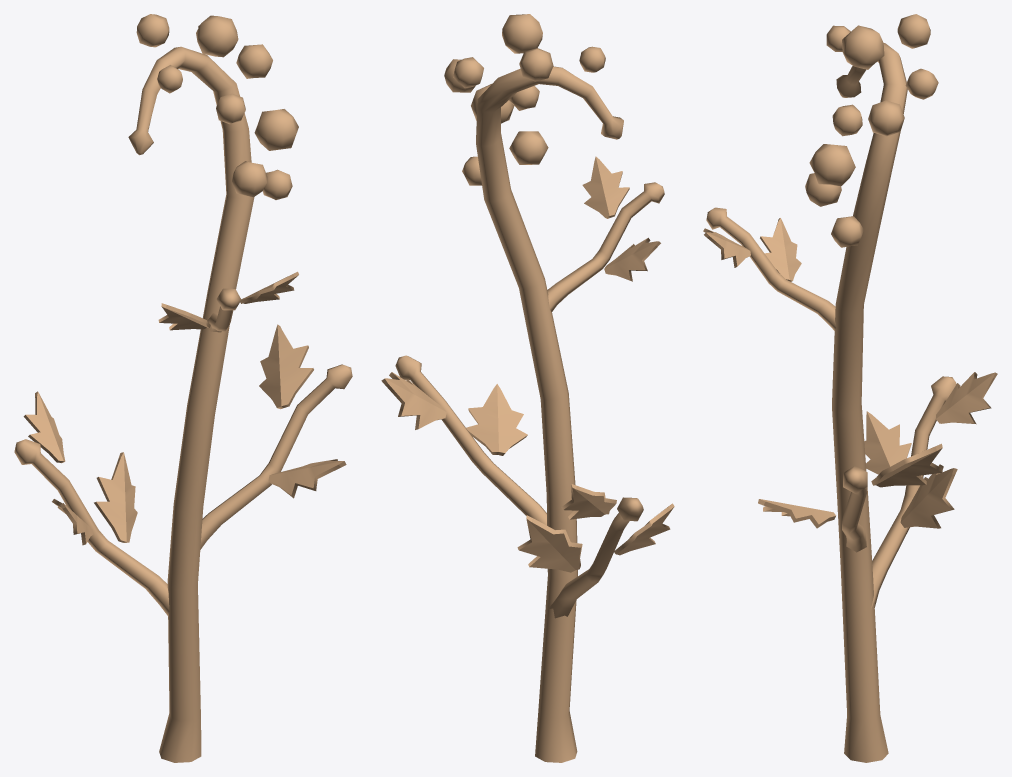
Rendered from asteroidPlant_stage3.fbx.
3 renders of one model, left to right at view 1: azimuth 30°, elevation 25°; view 2: azimuth 150°, elevation 25°; view 3: azimuth 270°, elevation 25°, orthographic.
Visible parts, largest first — view 1: stage3_asteroidStem, stage3_asteroidBranch3, stage3_asteroidBranch1, stage3_asteroidLeaf2, stage3_asteroidLeaf5, stage3_asteroidFruit1, stage3_asteroidFruit7, stage3_asteroidLeaf1, stage3_asteroidLeaf7, stage3_asteroidFruit2, stage3_asteroidFruit3, stage3_asteroidFruit8 (+5 smaller); view 2: stage3_asteroidStem, stage3_asteroidBranch1, stage3_asteroidBranch5, stage3_asteroidBranch3, stage3_asteroidLeaf1, stage3_asteroidLeaf5, stage3_asteroidLeaf2, stage3_asteroidLeaf3, stage3_asteroidFruit7, stage3_asteroidLeaf7, stage3_asteroidLeaf4, stage3_asteroidFruit2 (+5 smaller); view 3: stage3_asteroidStem, stage3_asteroidBranch3, stage3_asteroidBranch5, stage3_asteroidLeaf5, stage3_asteroidLeaf7, stage3_asteroidLeaf6, stage3_asteroidBranch1, stage3_asteroidLeaf2, stage3_asteroidFruit1, stage3_asteroidFruit7, stage3_asteroidLeaf4, stage3_asteroidFruit3 (+7 smaller).
Part boxes in pixels (x1,y1,x2,y2): stage3_asteroidStem: (128,46,254,762); stage3_asteroidBranch3: (14,439,169,616); stage3_asteroidBranch1: (200,364,352,549); stage3_asteroidLeaf2: (259,324,313,409); stage3_asteroidLeaf5: (94,452,137,542); stage3_asteroidFruit1: (254,109,298,150); stage3_asteroidFruit7: (196,15,238,57); stage3_asteroidLeaf1: (268,459,346,498); stage3_asteroidLeaf7: (23,391,65,463); stage3_asteroidFruit2: (232,161,267,197); stage3_asteroidFruit3: (236,44,272,78); stage3_asteroidFruit8: (136,14,169,47); stage3_asteroidStem: (476,66,623,762); stage3_asteroidBranch1: (395,355,546,525); stage3_asteroidBranch5: (547,182,664,311); stage3_asteroidBranch3: (547,497,643,618); stage3_asteroidLeaf1: (466,384,527,455); stage3_asteroidLeaf5: (517,515,582,572); stage3_asteroidLeaf2: (381,372,446,429); stage3_asteroidLeaf3: (582,156,629,218); stage3_asteroidFruit7: (502,14,542,53); stage3_asteroidLeaf7: (561,484,616,519); stage3_asteroidLeaf4: (604,237,660,281); stage3_asteroidFruit2: (509,131,548,164); stage3_asteroidStem: (832,43,907,762); stage3_asteroidBranch3: (871,376,956,608); stage3_asteroidBranch5: (706,207,836,330); stage3_asteroidLeaf5: (900,464,957,528); stage3_asteroidLeaf7: (936,372,997,424); stage3_asteroidLeaf6: (864,411,911,474); stage3_asteroidBranch1: (842,466,867,552); stage3_asteroidLeaf2: (871,443,942,487); stage3_asteroidFruit1: (809,144,855,186); stage3_asteroidFruit7: (842,25,884,69); stage3_asteroidLeaf4: (760,218,801,281); stage3_asteroidFruit3: (868,100,904,136).
Bounding box in the file's own units: 41.84 × 101 × 36.23.
